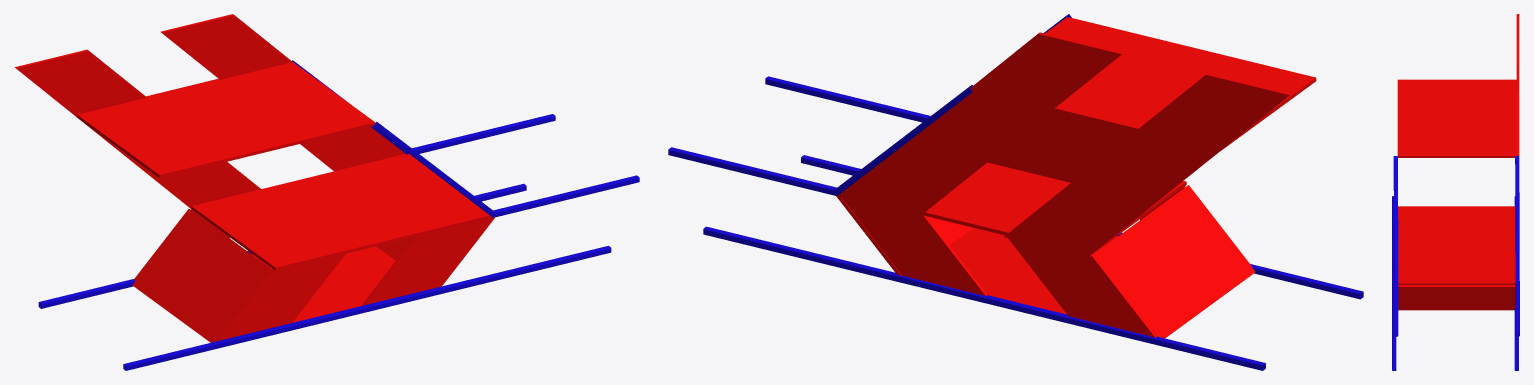
3 renders of one model, left to right at view 1: azimuth 30°, elevation 25°; view 2: azimuth 150°, elevation 25°; view 3: azimuth 270°, elevation 25°, orthographic. The views are drawn at different scales.
Visible parts, largest first — view 1: Obj_000002; view 2: Obj_000002; view 3: Obj_000002.
Boxes of the visible parts, <box> form: Obj_000002: <box>15,14,639,370</box>; Obj_000002: <box>668,14,1363,370</box>; Obj_000002: <box>1392,14,1519,370</box>.
Size of the model in its own units: 3.7 by 1.61 by 1.05.
